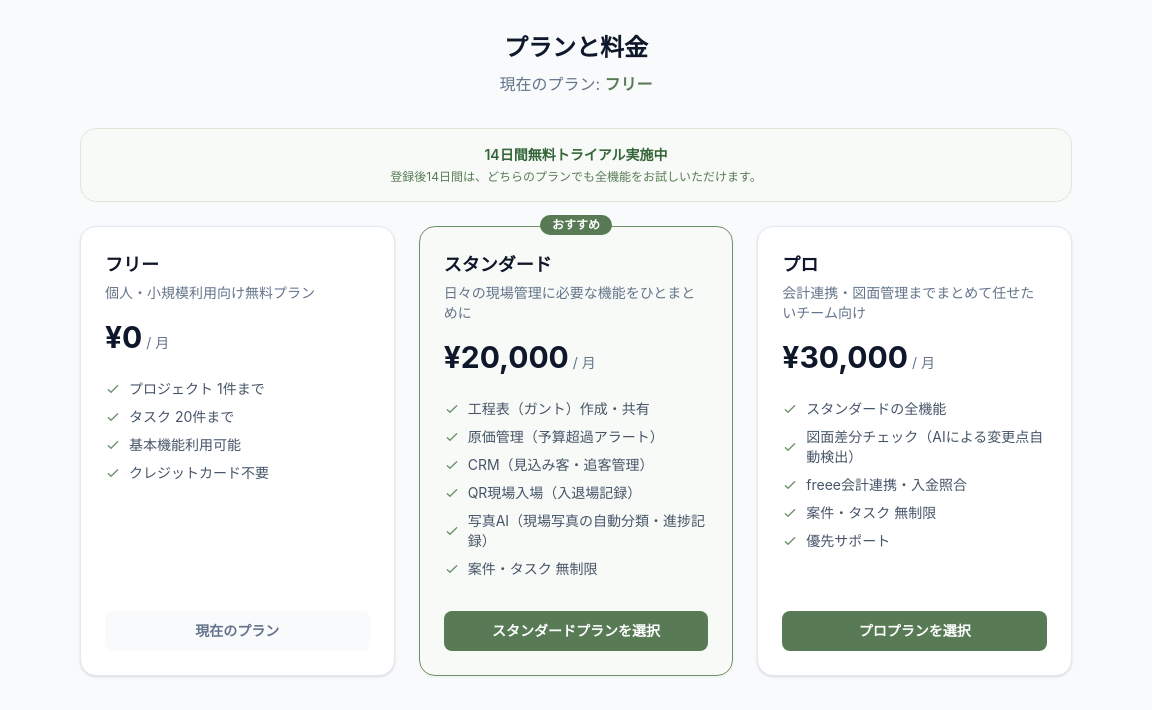
Test: PricingPage › Stripe未設定モーダルを閉じられる
What coordinates should you click on to do the following:
click the button "スタンダードプランを選択"
I would click on:
 (576, 631)
Its box is [444,611,708,651].
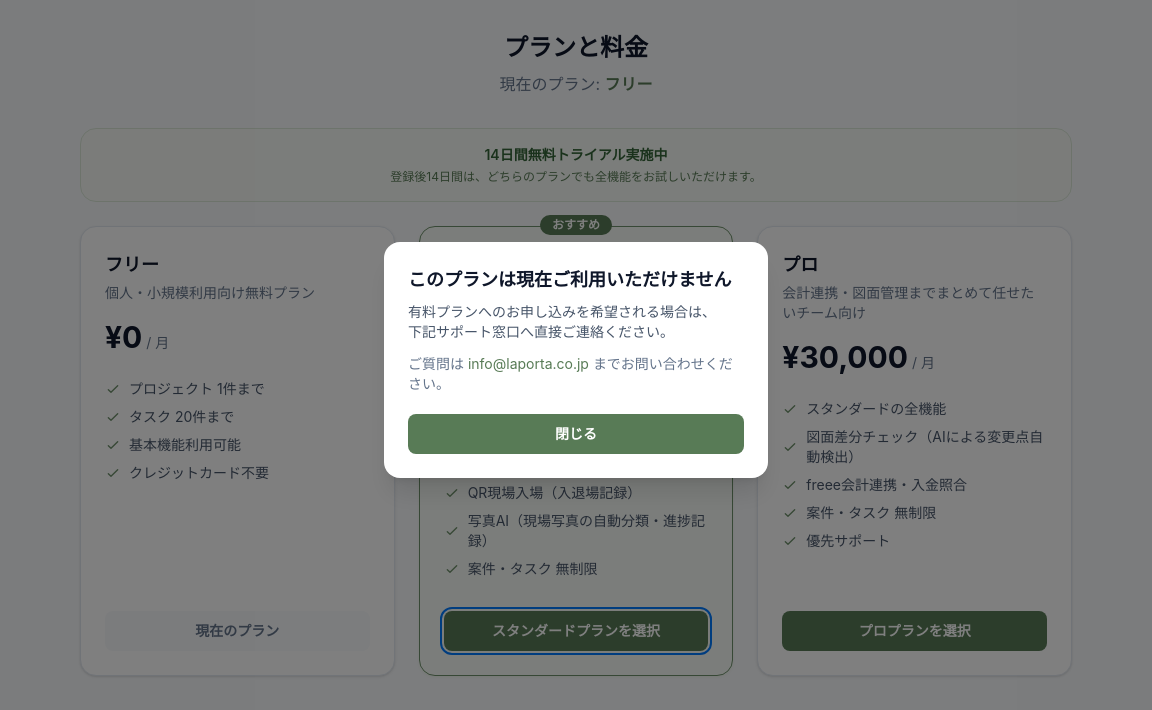
Now the heading "このプランは現在ご利用いただけません" is shown, box [408,266,744,294]
What coordinates should you click on to do the following:
click the button "閉じる"
I would click on:
 (576, 434)
Its box is [408,414,744,454].
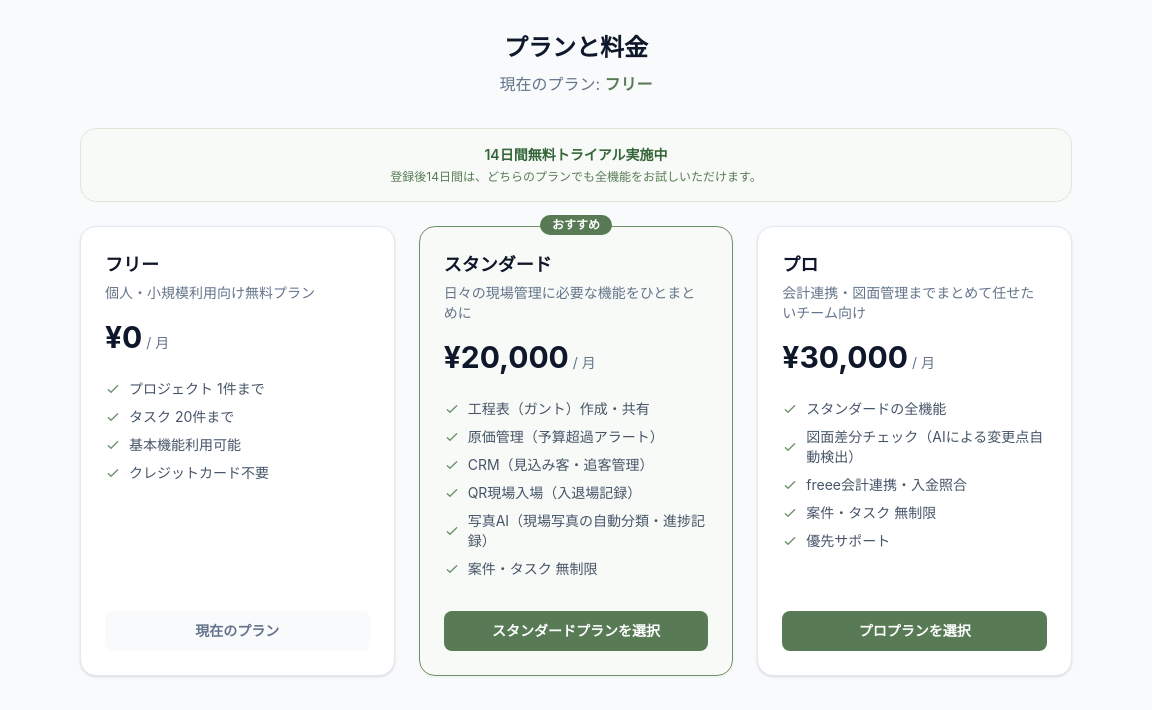
Now the heading "このプランは現在ご利用いただけません" is gone
